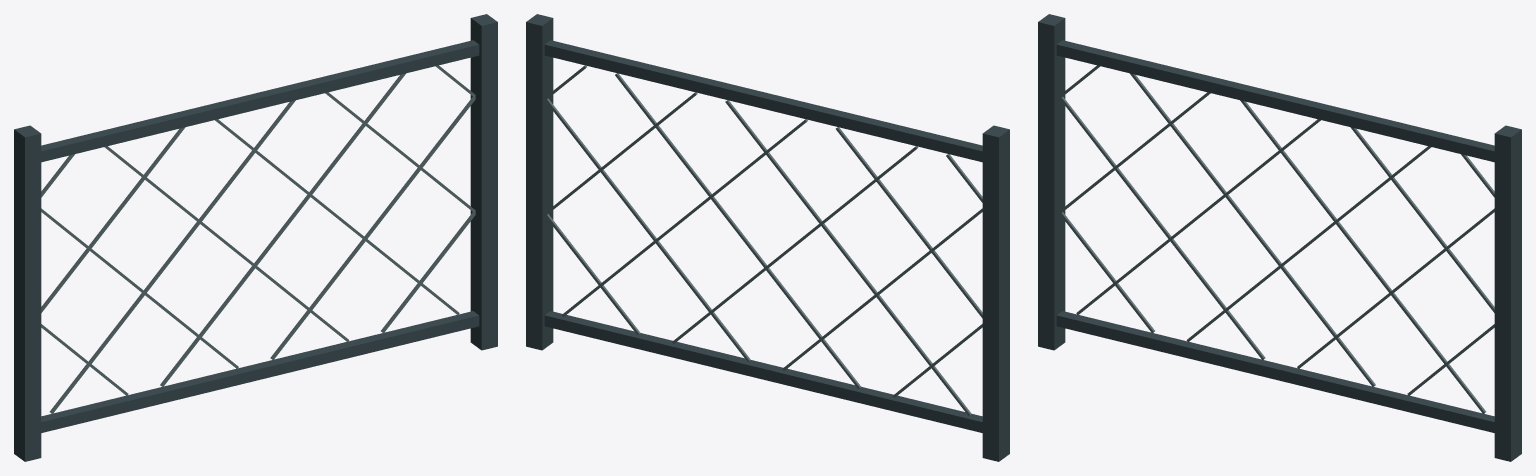
Rendered from Prop_Daily_MeshFence_001_LOD1.glb.
3 views of the same model, side by side, from view 1: azimuth 30°, elevation 25°; view 2: azimuth 150°, elevation 25°; view 3: azimuth 330°, elevation 25° (orthographic).
Parts seen in each view (by area): view 1: Prop_Daily_MeshFence_001_LOD1; view 2: Prop_Daily_MeshFence_001_LOD1; view 3: Prop_Daily_MeshFence_001_LOD1.
Boxes of the visible parts, x1=… form: Prop_Daily_MeshFence_001_LOD1: x1=14, y1=14, x2=497, y2=461; Prop_Daily_MeshFence_001_LOD1: x1=526, y1=14, x2=1009, y2=461; Prop_Daily_MeshFence_001_LOD1: x1=1038, y1=14, x2=1521, y2=461.
Size of the model in its own units: 2.48 by 1.63 by 0.1.
